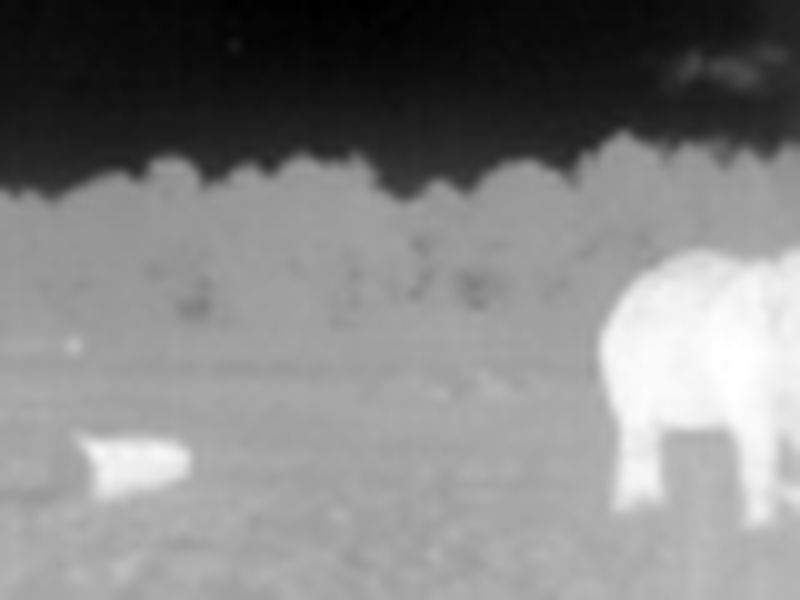elephant: (588, 238, 800, 512)
